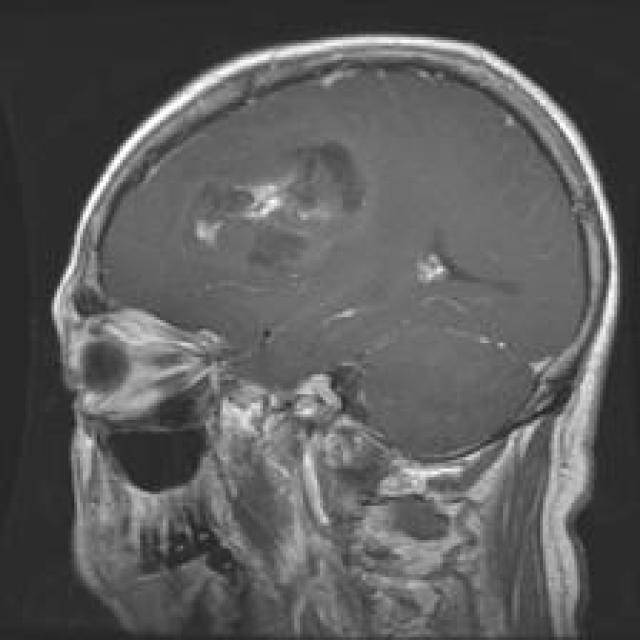glioma_tumor: (170, 134, 379, 301)
